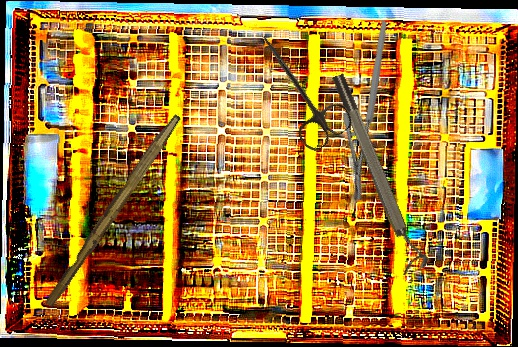Fixation Ring: (328, 68, 431, 276)
Iris Scissors: (239, 22, 357, 155)
Needle Holder: (301, 19, 442, 203)
Scalpel Handle: (43, 109, 182, 311)
